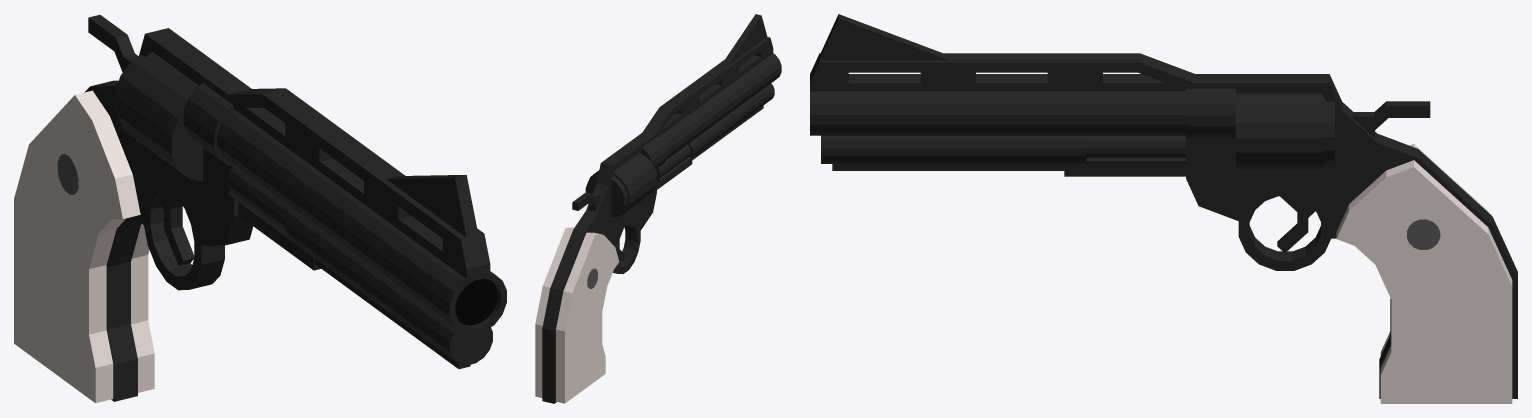
The model's file is mctf2_revolver.glb.
The picture shows the model from 3 angles, left to right: view 1: azimuth 30°, elevation 25°; view 2: azimuth 150°, elevation 25°; view 3: azimuth 270°, elevation 25°; orthographic projection. The views are drawn at different scales.
Visible parts, largest first — view 1: Object_2, Object_3; view 2: Object_2; view 3: Object_2.
Part boxes in pixels (x1,y1,x2,y2): Object_2: (14, 15, 506, 403); Object_3: (455, 278, 497, 325); Object_2: (535, 14, 781, 403); Object_2: (810, 14, 1517, 403).
Bounding box in the file's own units: 1.81 × 9.43 × 16.01.
2 materials, 2 textured.
